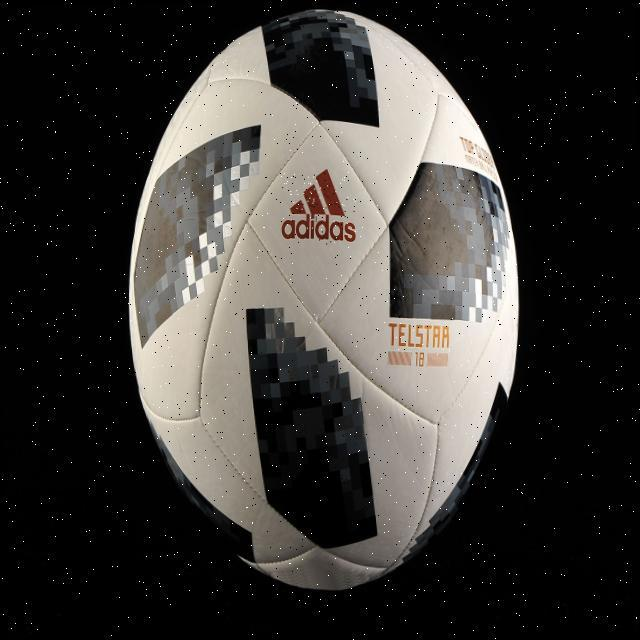Adidas: (281, 168, 356, 245)
